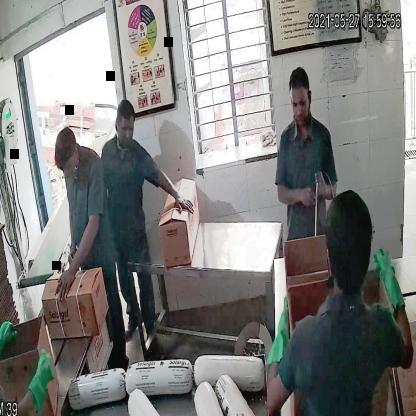no_goggles: (286, 93, 318, 115)
